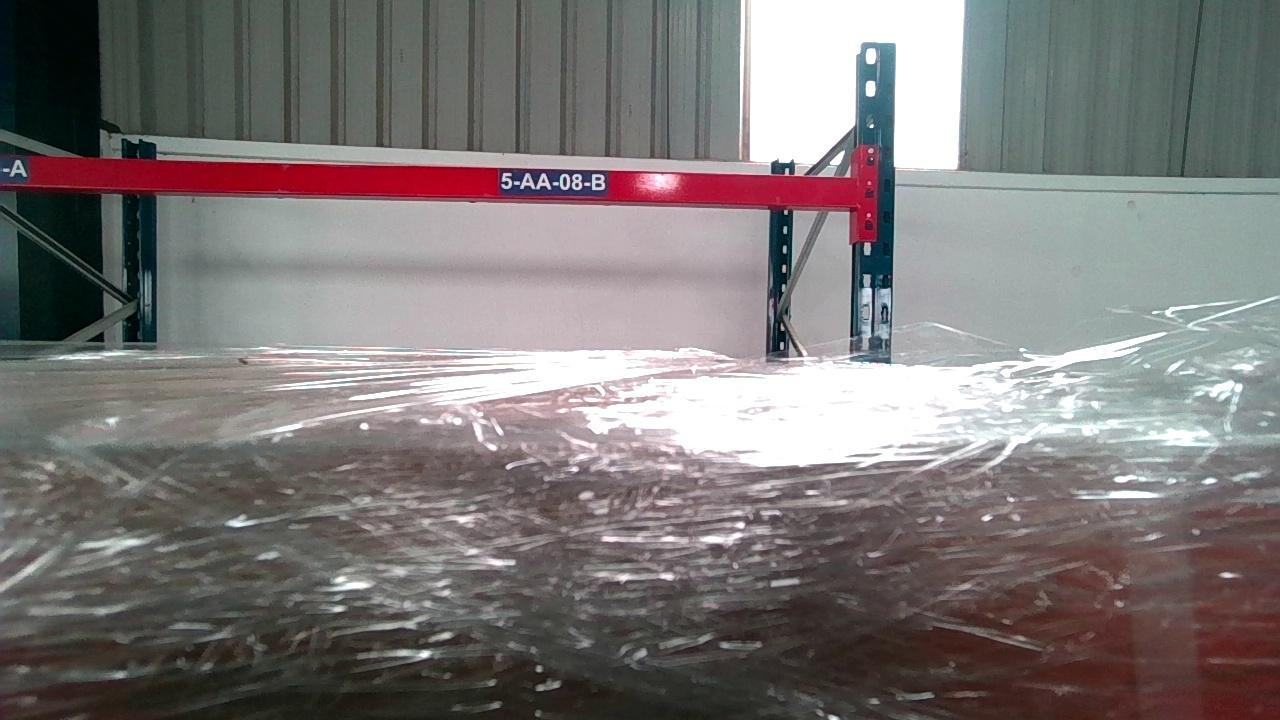h_rack: (1, 154, 858, 208)
